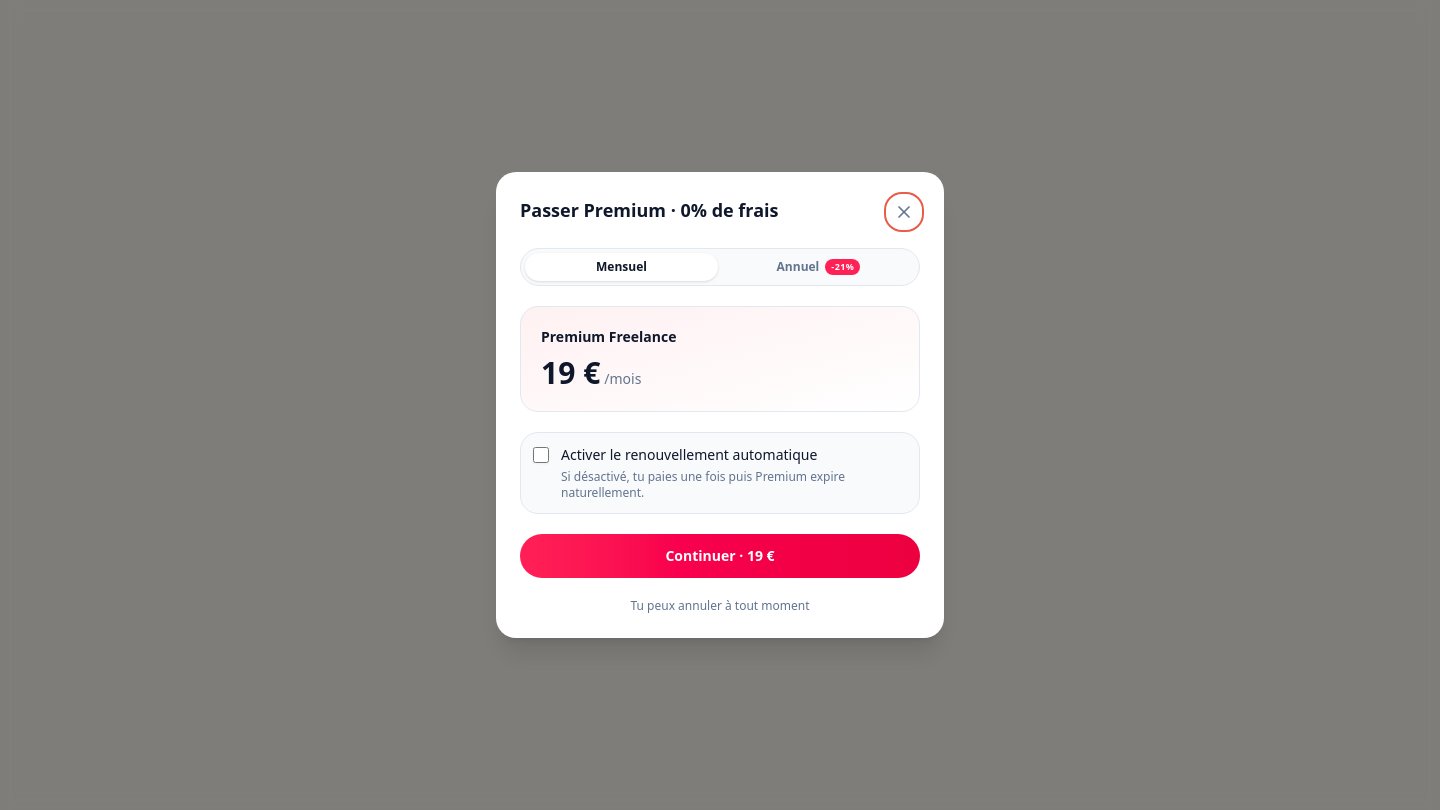
Scenario: UpgradeModal › switches to annual pricing when the annual tab is clicked
Click the tab "Annuel -21%" at (818, 267), box [722,253,915,281]
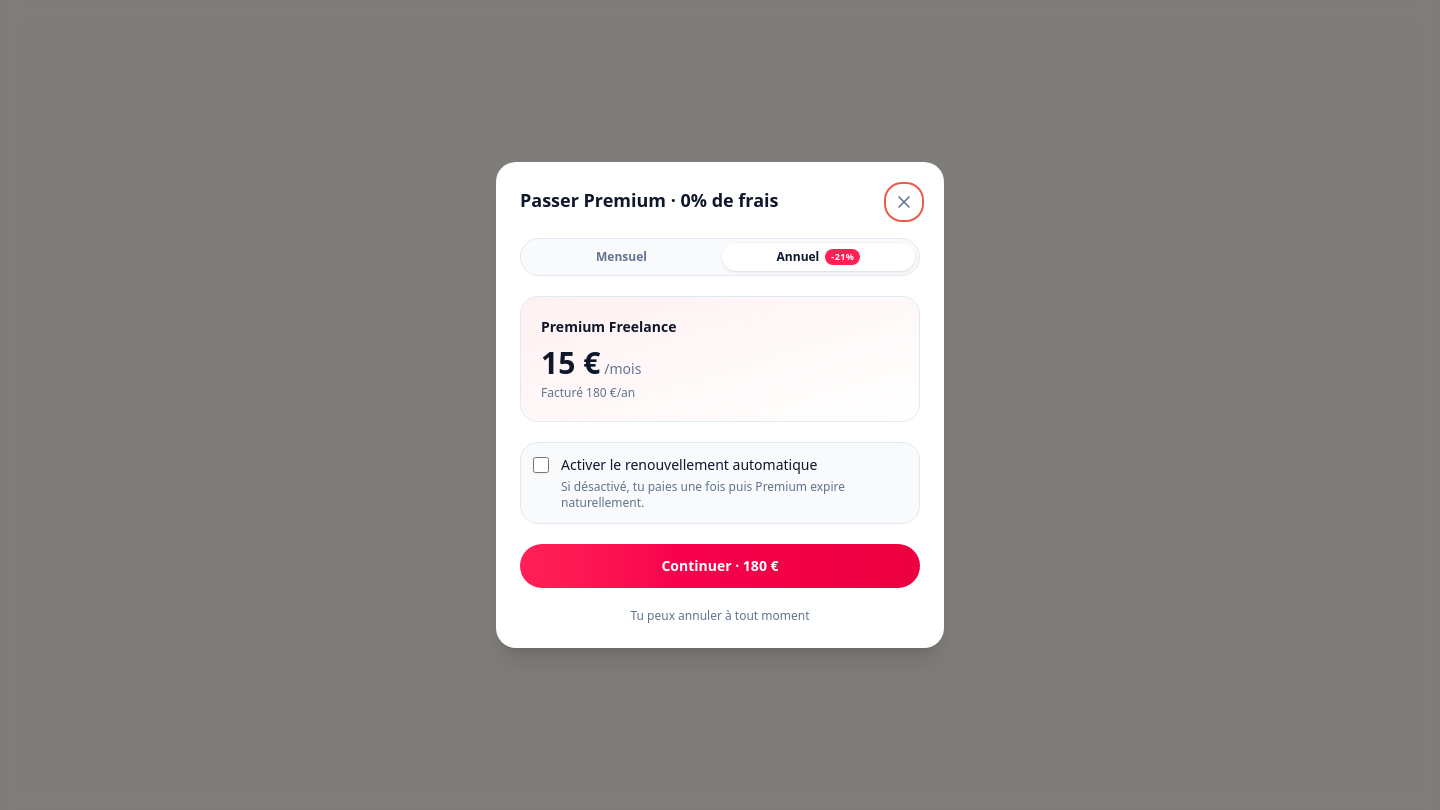
Now the text "15 €/mois" is shown, box [541,342,641,383]
Now the text "Facturé 180 €/an" is shown, box [541,384,635,401]
